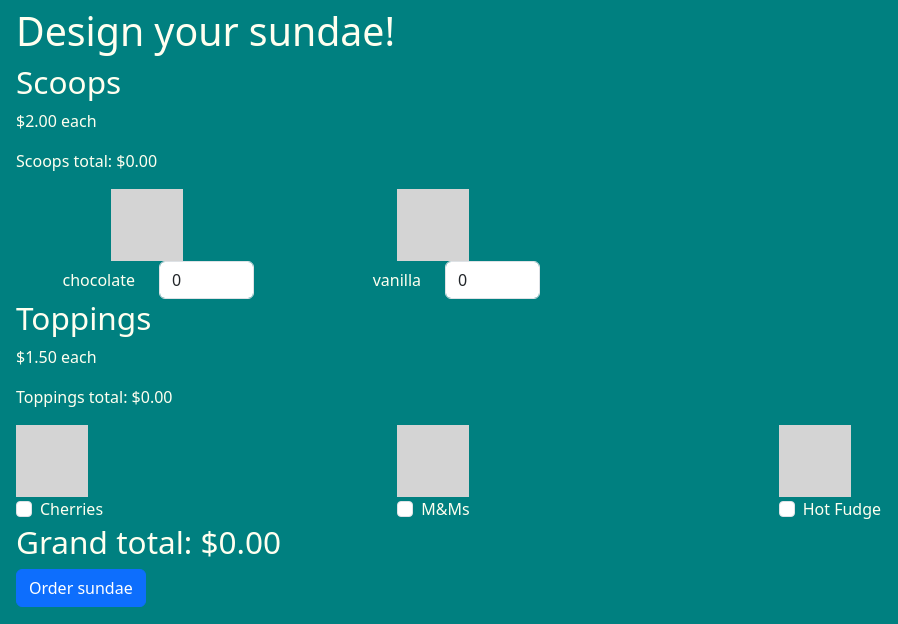
grand total › updates properly when scoops is selected first
Replace the text in the number field labelled "vanilla" with "1" at coordinates (493, 280), box [445,261,540,299]
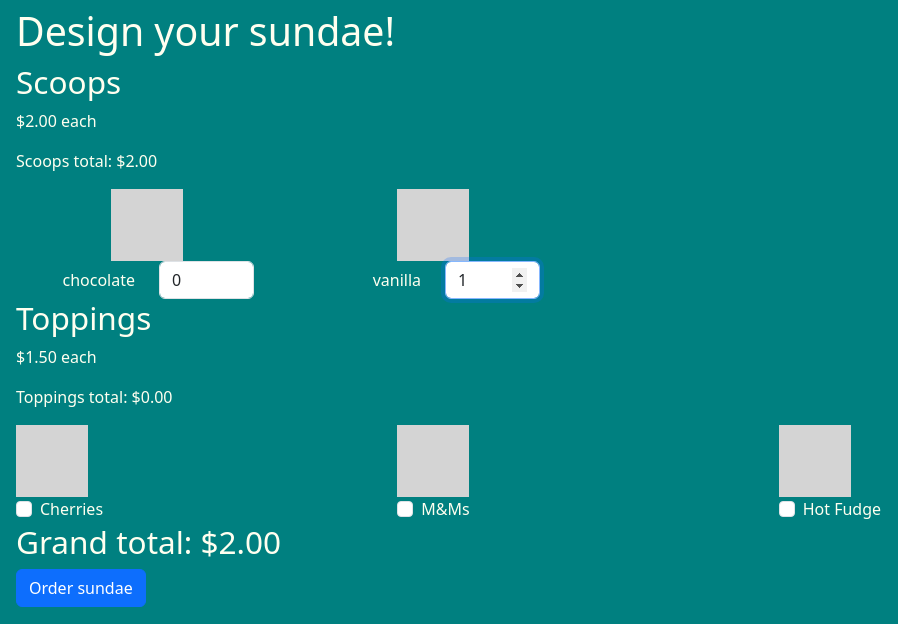
Check: the heading "Grand total: $2.00" is shown, box [16,520,281,563]
Click the checkbox labelled "Cherries" at coordinates (24, 509), box [16,501,32,517]
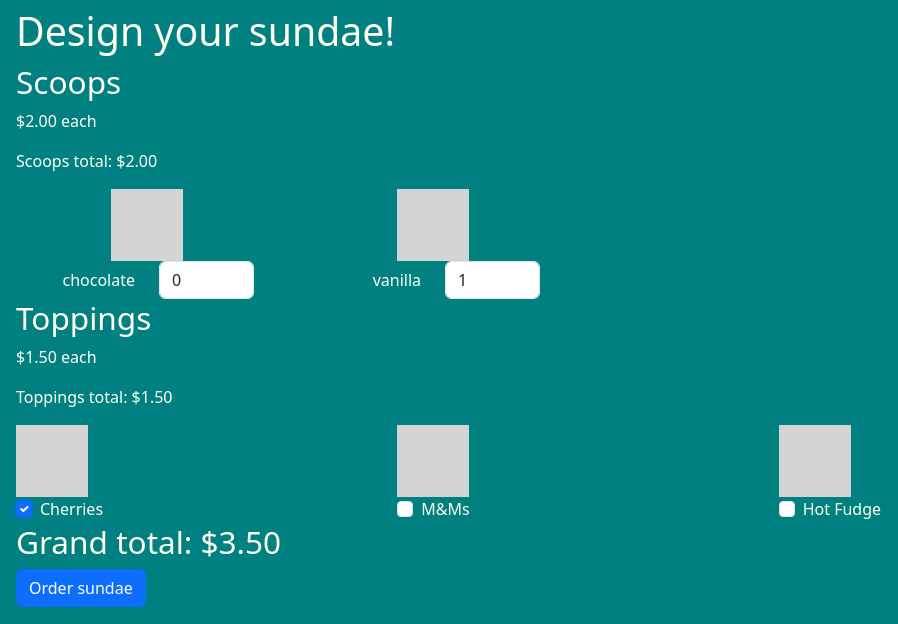
Check: the heading "Grand total: $3.50" is shown, box [16,520,281,563]
